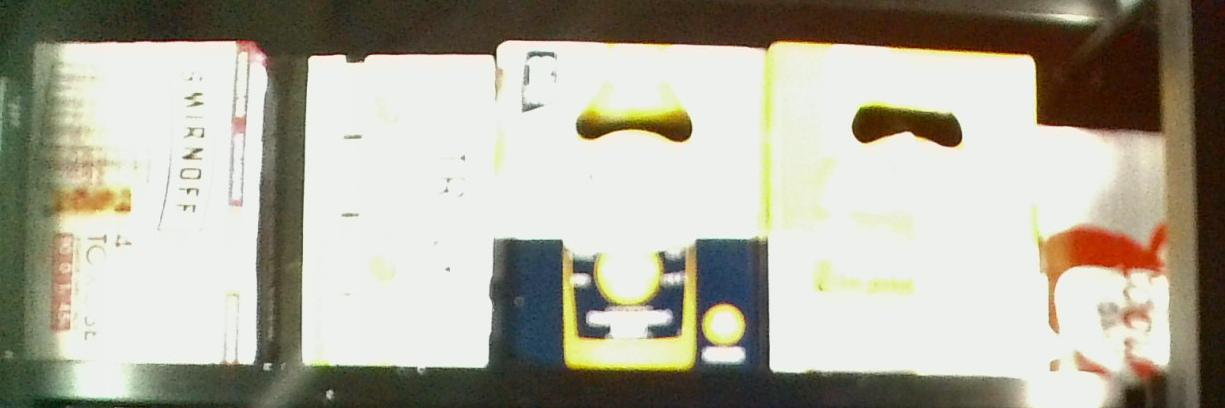bottle: (766, 40, 1038, 383), (497, 40, 766, 370), (29, 34, 261, 367), (307, 56, 488, 367), (1038, 125, 1163, 381)
